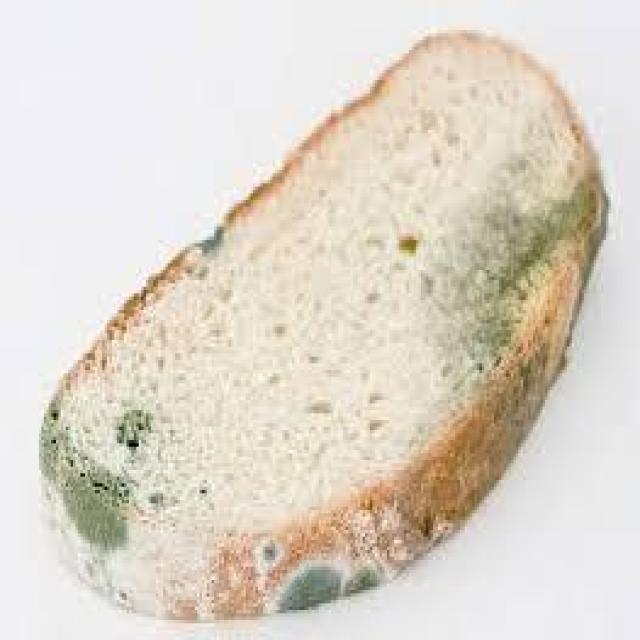organic: (37, 30, 616, 623)
